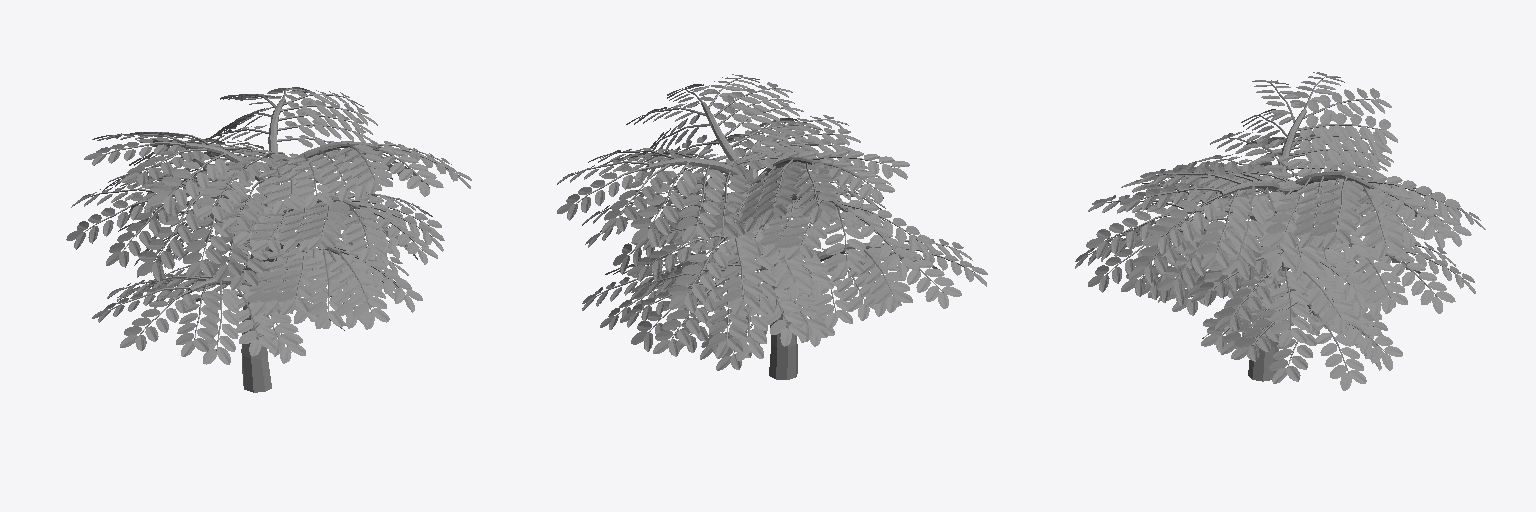
Rendered from tree2.obj.
3 views of the same model, side by side, from view 1: azimuth 30°, elevation 25°; view 2: azimuth 150°, elevation 25°; view 3: azimuth 270°, elevation 25° (orthographic).
Visible parts, largest first — view 1: Cone002; view 2: Cone002, Object024; view 3: Cone002.
Boxes of the visible parts, x1=… form: Cone002: x1=241, y1=168, x2=279, y2=392; Cone002: x1=743, y1=169, x2=797, y2=379; Object024: x1=648, y1=158, x2=744, y2=177; Cone002: x1=1248, y1=191, x2=1285, y2=381.
Bounding box in the file's own units: 175 × 116 × 176.